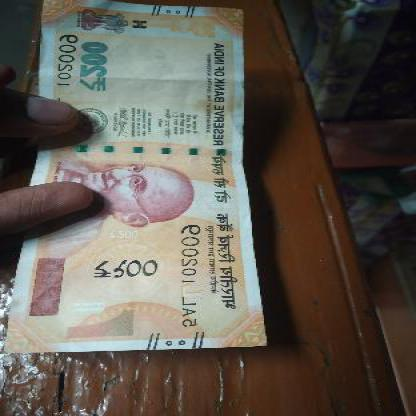New200Front: (7, 7, 254, 359)
